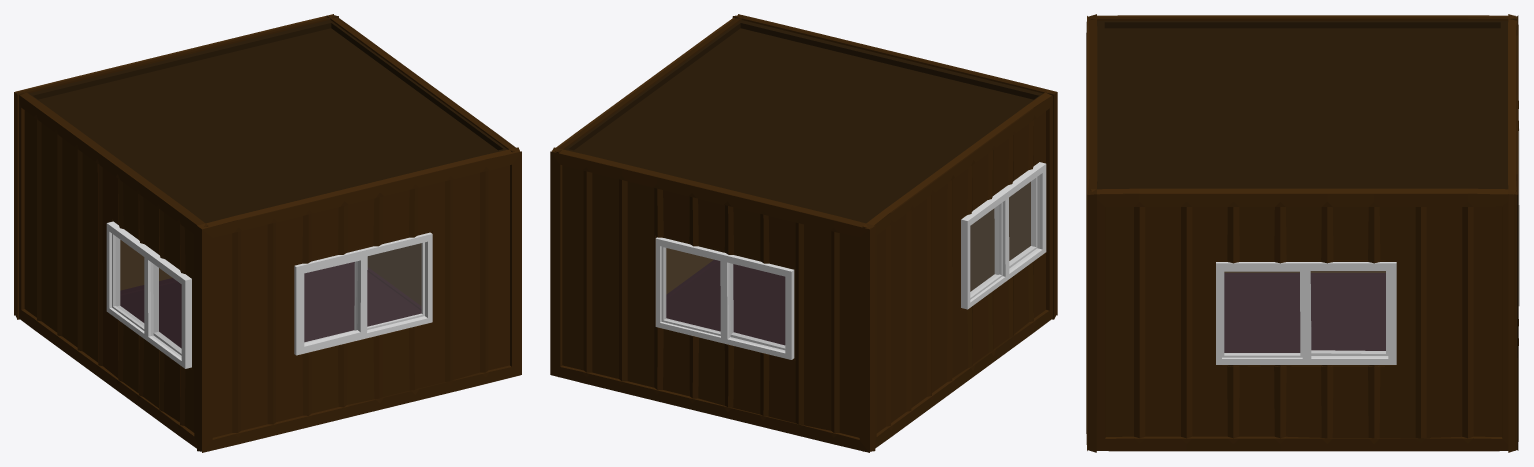
The model's file is 3D_6x6MedWindows.fbx.
The picture shows the model from 3 angles, left to right: view 1: azimuth 30°, elevation 25°; view 2: azimuth 150°, elevation 25°; view 3: azimuth 270°, elevation 25°; orthographic projection. The views are drawn at different scales.
Visible parts, largest first — view 1: Plane.009; view 2: Plane.009; view 3: Plane.009.
Part boxes in pixels (left/top/right/bottom): Plane.009: left=14, top=14, right=521, bottom=452; Plane.009: left=550, top=14, right=1057, bottom=452; Plane.009: left=1086, top=14, right=1519, bottom=452.
Size of the model in its own units: 610 by 407 by 616.
